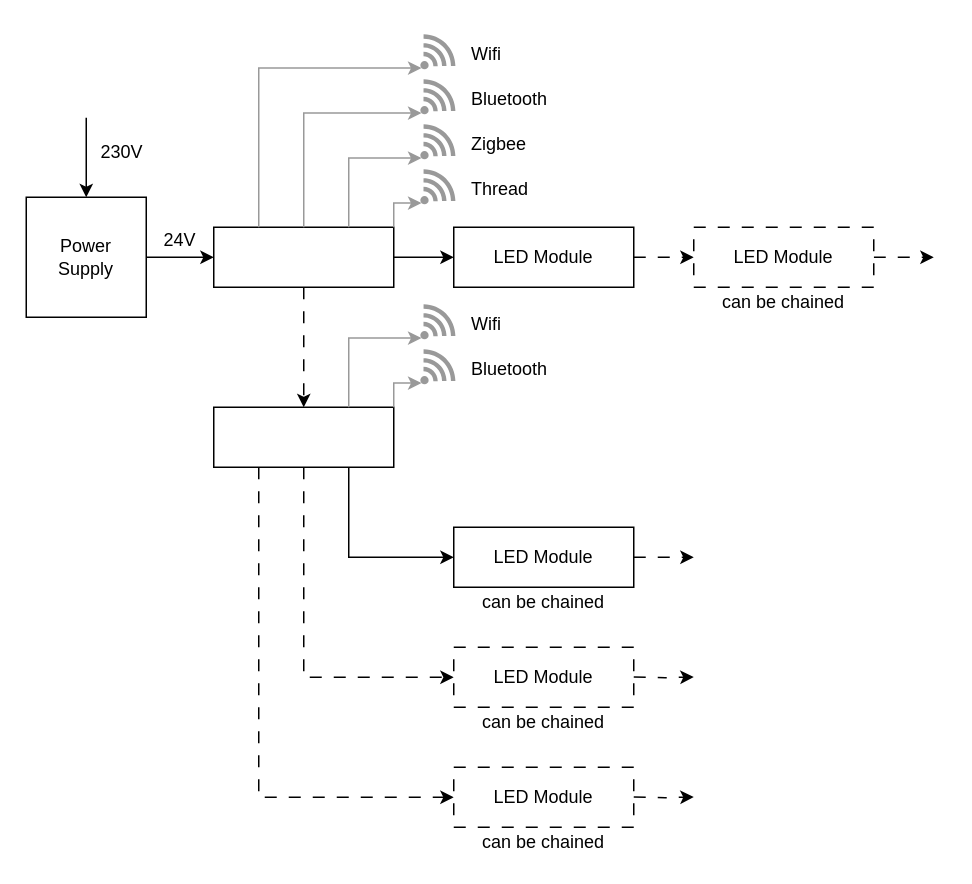
Some shapes in this 972 by 884 pixel diagram are drawn without their labels. Each missing label, with the centre of its shape:
"Extension Module" goes at point 303,436.
"Main Module" goes at point 303,256.
